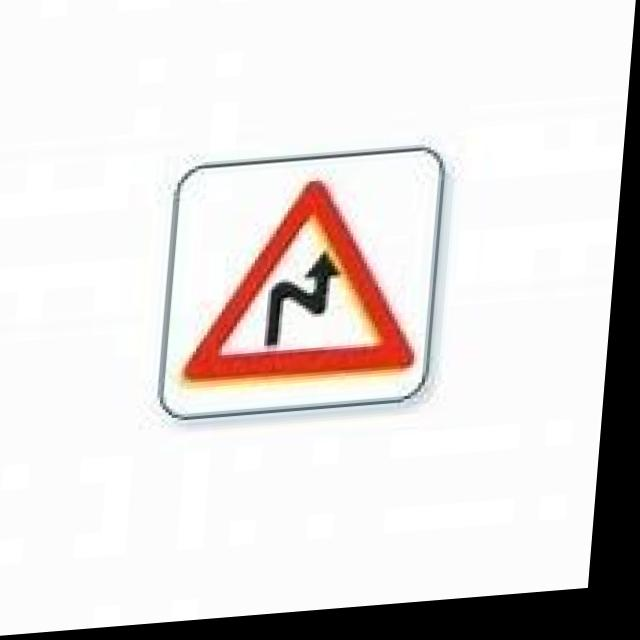RIGHT_REVERSE_BEND: (183, 169, 439, 403)
